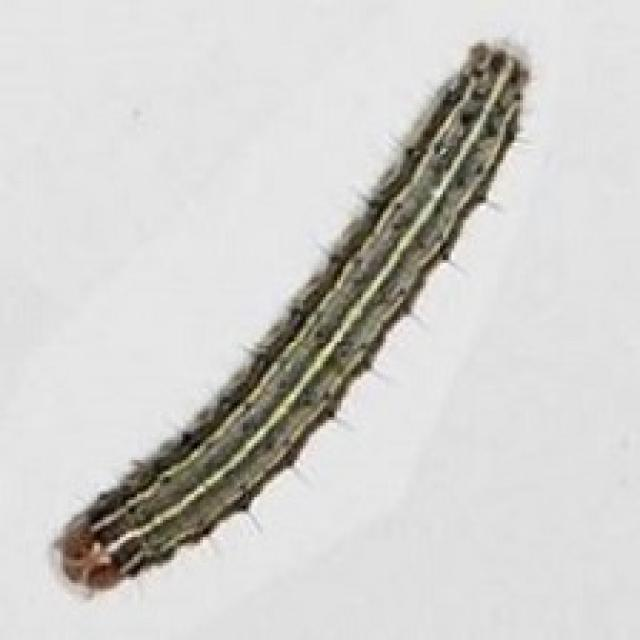Fall-armyworm: (60, 44, 530, 622)
